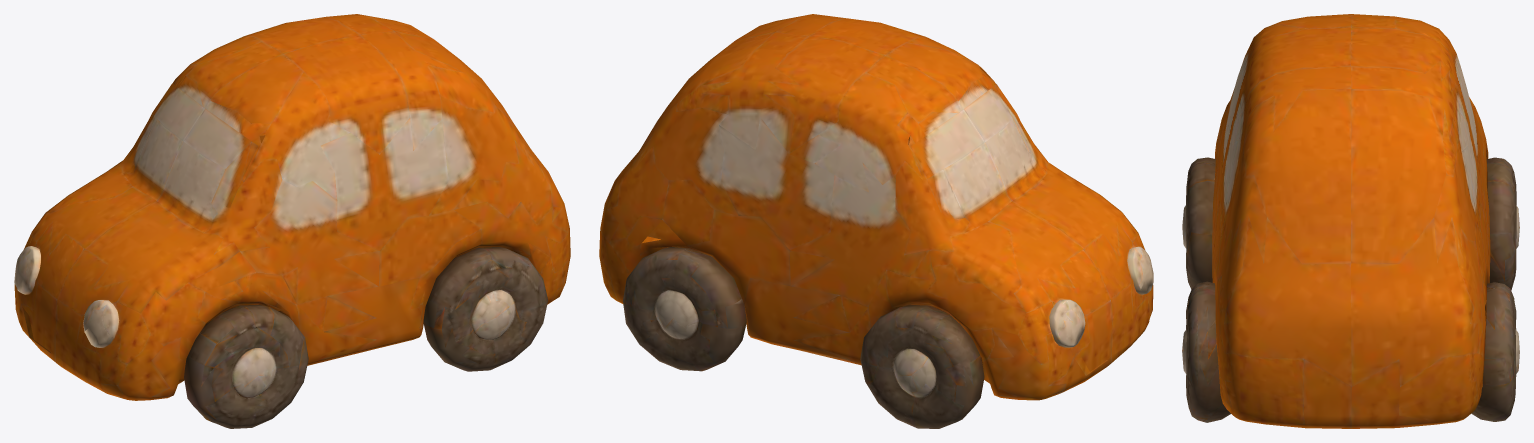
File: car-orange.glb
3 views of the same model, side by side, from view 1: azimuth 30°, elevation 25°; view 2: azimuth 150°, elevation 25°; view 3: azimuth 270°, elevation 25° (orthographic). The views are drawn at different scales.
Visible parts, largest first — view 1: geometry_0; view 2: geometry_0; view 3: geometry_0.
Boxes of the visible parts, x1,y1,x2,y2 form: geometry_0: (14,14,570,428); geometry_0: (599,14,1153,428); geometry_0: (1182,14,1519,428).
Bounding box in the file's own units: 1 × 0.6116 × 0.5817.
1 material, 1 textured.
